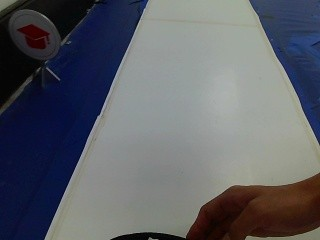school: (4, 10, 61, 64)
